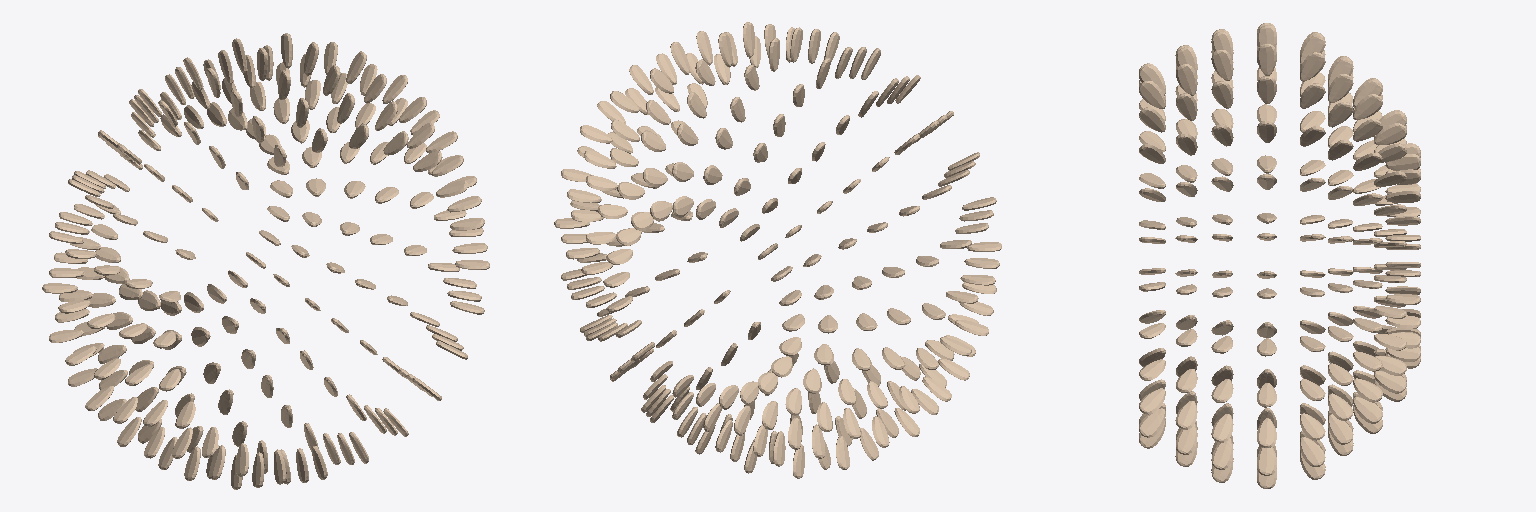
The model's file is TomatoSeed.obj.
3 views of the same model, side by side, from view 1: azimuth 30°, elevation 25°; view 2: azimuth 150°, elevation 25°; view 3: azimuth 270°, elevation 25° (orthographic).
Visible parts, largest first — view 1: TomatoSeed; view 2: TomatoSeed; view 3: TomatoSeed.
Part boxes in pixels (left/top/right/bottom): TomatoSeed: left=42, top=33, right=489, bottom=489; TomatoSeed: left=554, top=22, right=1001, bottom=478; TomatoSeed: left=1139, top=23, right=1420, bottom=488.
Bounding box in the file's own units: 0.0405 × 0.0405 × 0.0245.